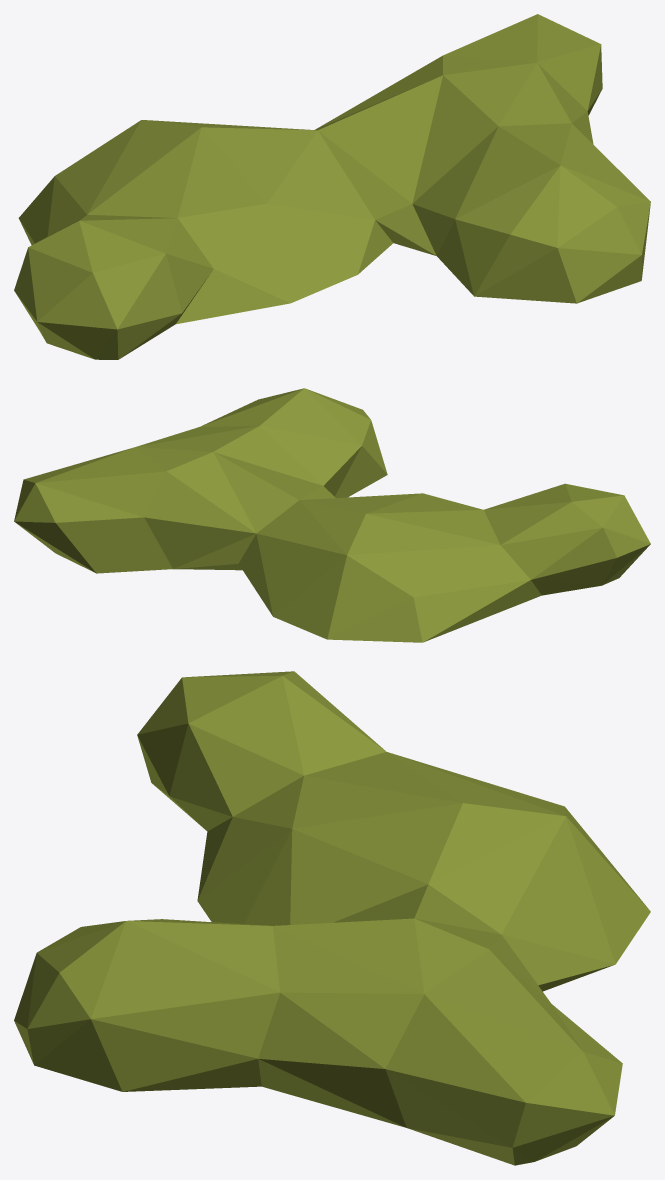
The model's file is ea_swamp_grass_02b_pre__9__lev1.glb.
3 renders of one model, top to bottom at view 1: azimuth 30°, elevation 25°; view 2: azimuth 150°, elevation 25°; view 3: azimuth 270°, elevation 25°, orthographic. The views are drawn at different scales.
Parts seen in each view (by area): view 1: ea_swamp_grass_02b_pre__9__lev1; view 2: ea_swamp_grass_02b_pre__9__lev1; view 3: ea_swamp_grass_02b_pre__9__lev1.
Boxes of the visible parts, x1,y1,x2,y2 form: ea_swamp_grass_02b_pre__9__lev1: (14, 14, 650, 359); ea_swamp_grass_02b_pre__9__lev1: (14, 388, 650, 642); ea_swamp_grass_02b_pre__9__lev1: (14, 671, 650, 1165).
Bounding box in the file's own units: 4.94 × 0.8314 × 3.23.
Materials: 1 (1 with a texture image).
